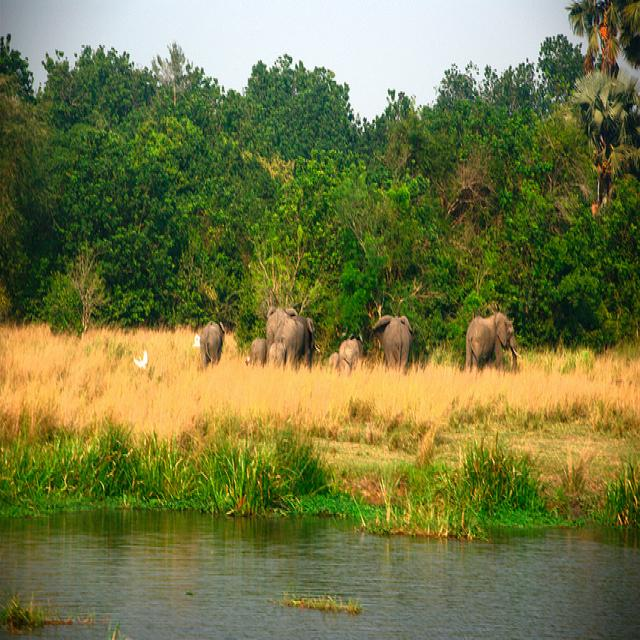Elephant: (465, 310, 521, 373), (265, 304, 316, 370), (369, 313, 413, 373), (193, 319, 225, 369), (327, 332, 363, 374), (245, 336, 267, 366)
